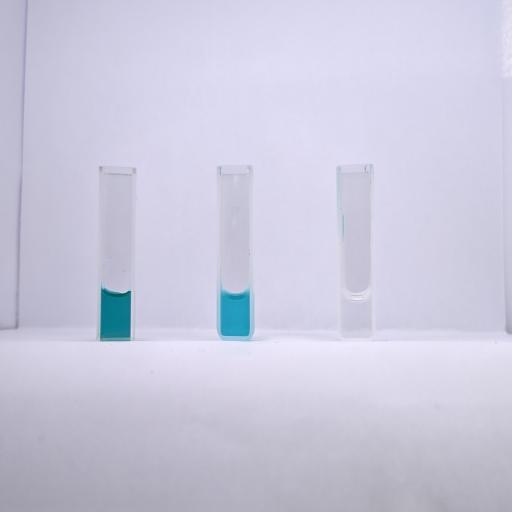cuvette: (95, 164, 139, 342), (214, 163, 256, 341), (335, 162, 376, 343)
liquid: (100, 291, 130, 338), (221, 290, 250, 336), (342, 290, 371, 336)
